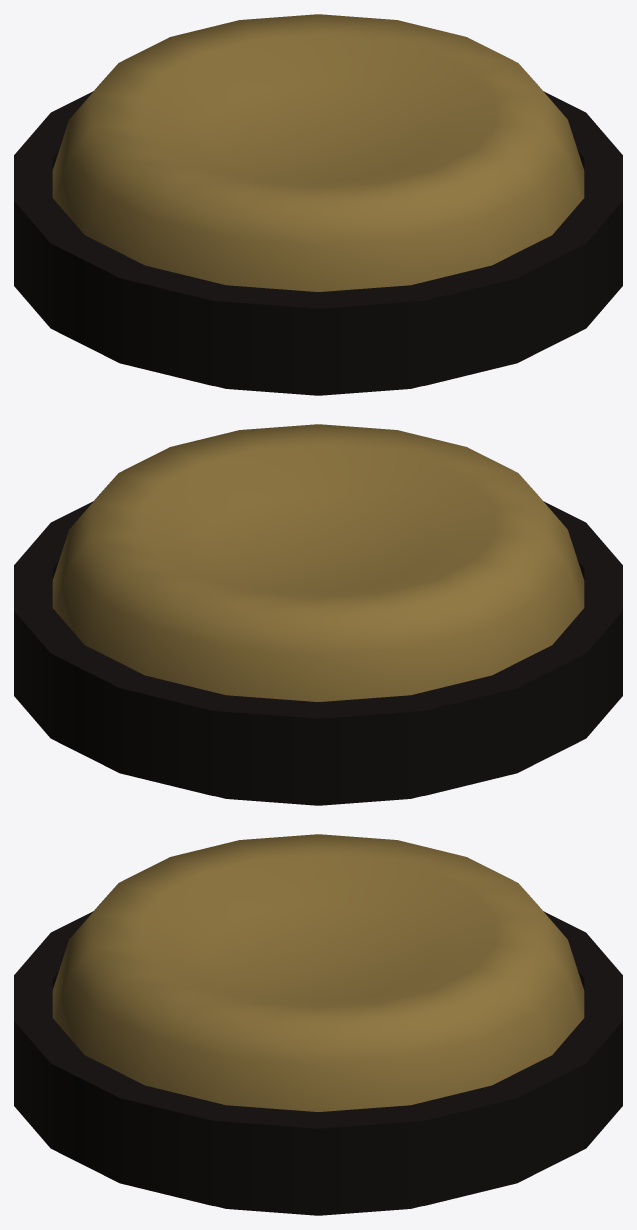
File: action_bouton1_01.FBX
3 views of the same model, one above another, from view 1: azimuth 30°, elevation 25°; view 2: azimuth 150°, elevation 25°; view 3: azimuth 270°, elevation 25° (orthographic).
Visible parts, largest first — view 1: Object006, Cylinder024; view 2: Object006, Cylinder024; view 3: Object006, Cylinder024.
Part boxes in pixels (left/top/right/bottom): Object006: left=52, top=14, right=584, bottom=291; Cylinder024: left=14, top=91, right=622, bottom=395; Object006: left=52, top=424, right=584, bottom=701; Cylinder024: left=14, top=501, right=622, bottom=805; Object006: left=52, top=834, right=584, bottom=1111; Cylinder024: left=14, top=911, right=622, bottom=1215.
Bounding box in the file's own units: 12.27 × 3.72 × 12.09.
